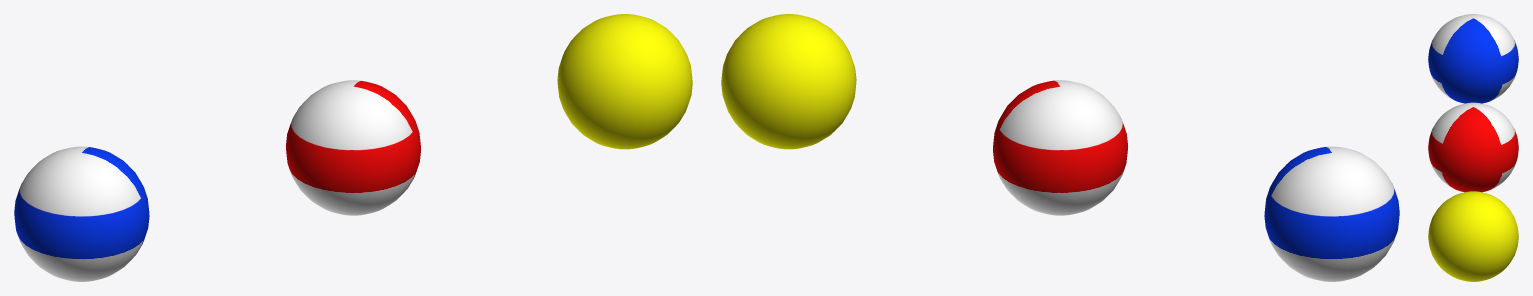
Rendered from testTextures_texturized.fbx.
The picture shows the model from 3 angles, left to right: view 1: azimuth 30°, elevation 25°; view 2: azimuth 150°, elevation 25°; view 3: azimuth 270°, elevation 25°; orthographic projection. The views are drawn at different scales.
Visible parts, largest first — view 1: Sphere; view 2: Sphere; view 3: Sphere.
Part boxes in pixels (x1,y1,x2,y2): Sphere: (14,14,692,281); Sphere: (721,14,1399,281); Sphere: (1428,14,1518,281).
Size of the model in its own units: 486 by 86.5 by 86.5.
